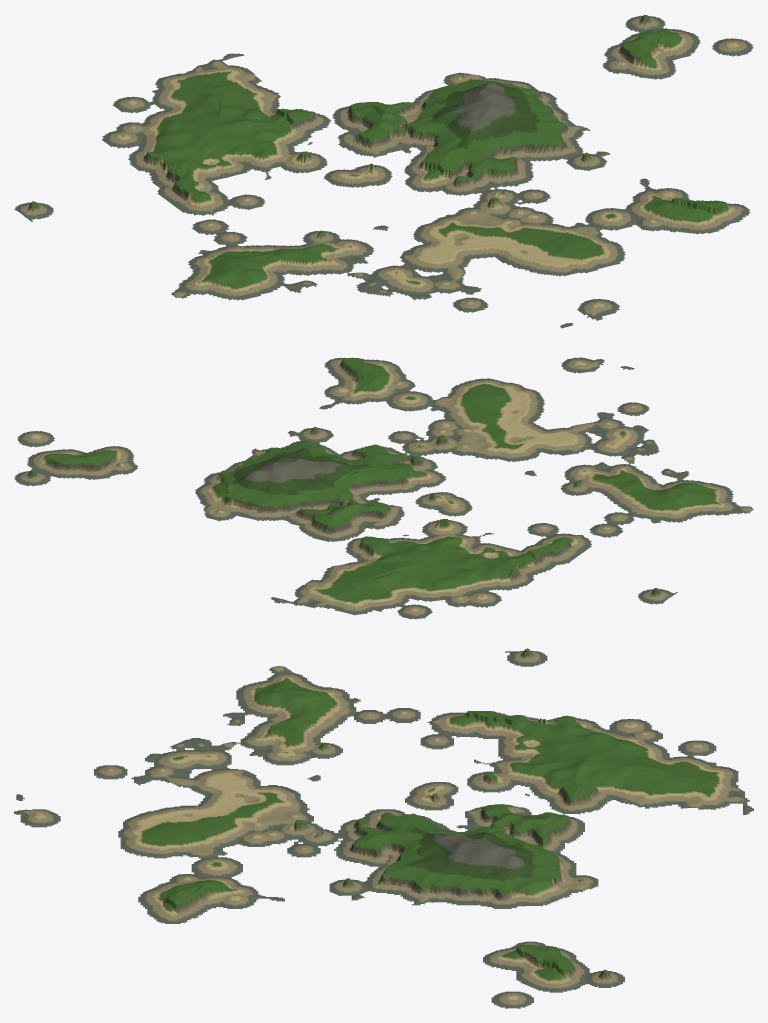
The model's file is arch_islands.glb.
The picture shows the model from 3 angles, top to bottom: view 1: azimuth 30°, elevation 25°; view 2: azimuth 150°, elevation 25°; view 3: azimuth 270°, elevation 25°; orthographic projection. The views are drawn at different scales.
Visible parts, largest first — view 1: geometry_0; view 2: geometry_0; view 3: geometry_0.
Part boxes in pixels (x1,y1,x2,y2): geometry_0: [14, 14, 753, 328]; geometry_0: [14, 357, 753, 619]; geometry_0: [14, 648, 753, 1008].
Bounding box in the file's own units: 2280 × 78.1 × 1998.
